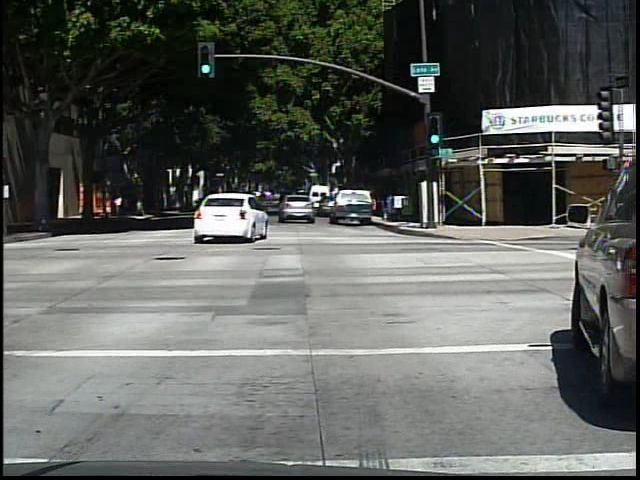person: (112, 192, 128, 222)
